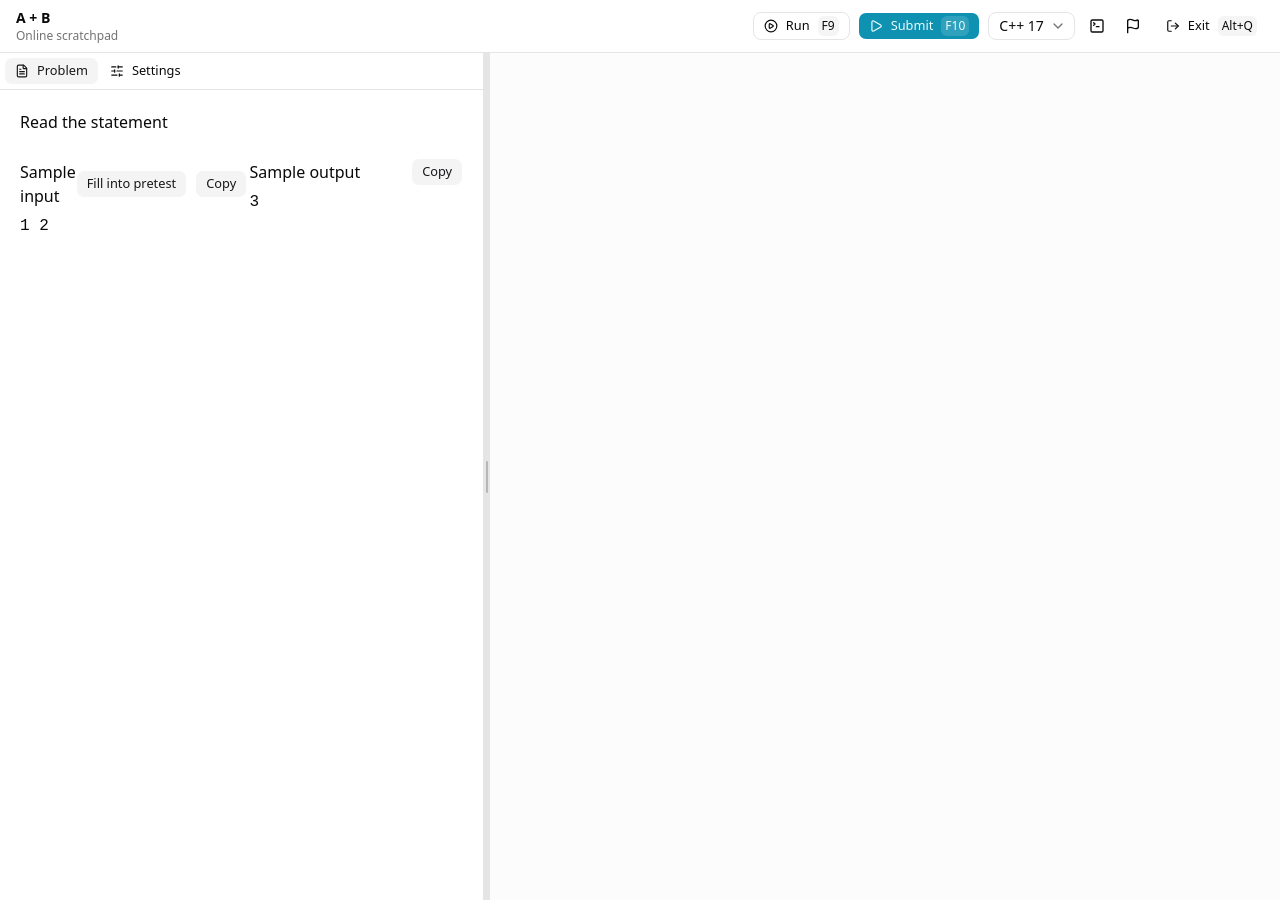
it: ScratchpadWorkspace › fills a sample input into the pretest panel
The width and height of the screenshot is (1280, 900).
Step 1. Click the button "Fill into pretest" → (131, 184), box [76,170,187,198]
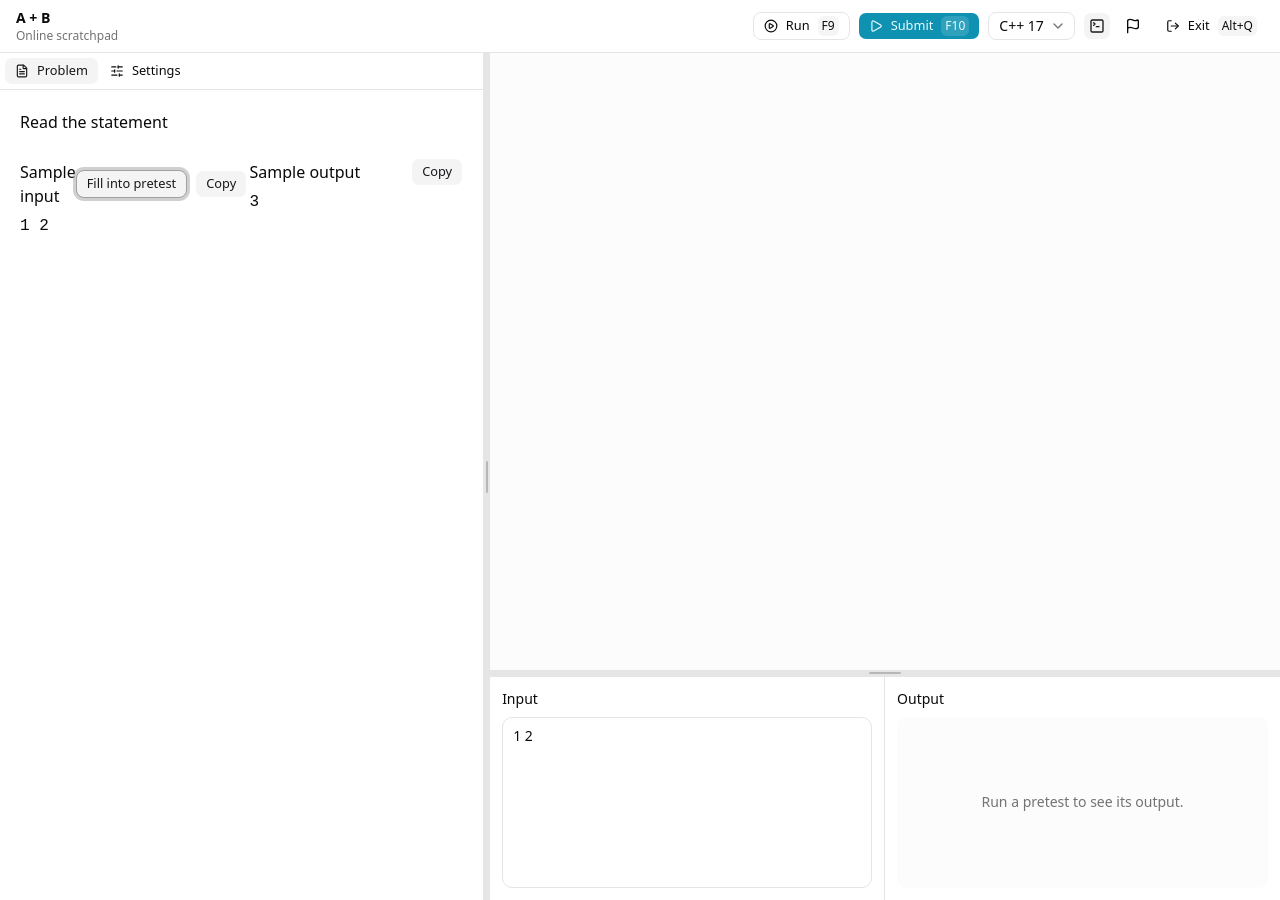
Expected: the text box labelled "Input" holds "1 2 ", [502,717,872,888]
